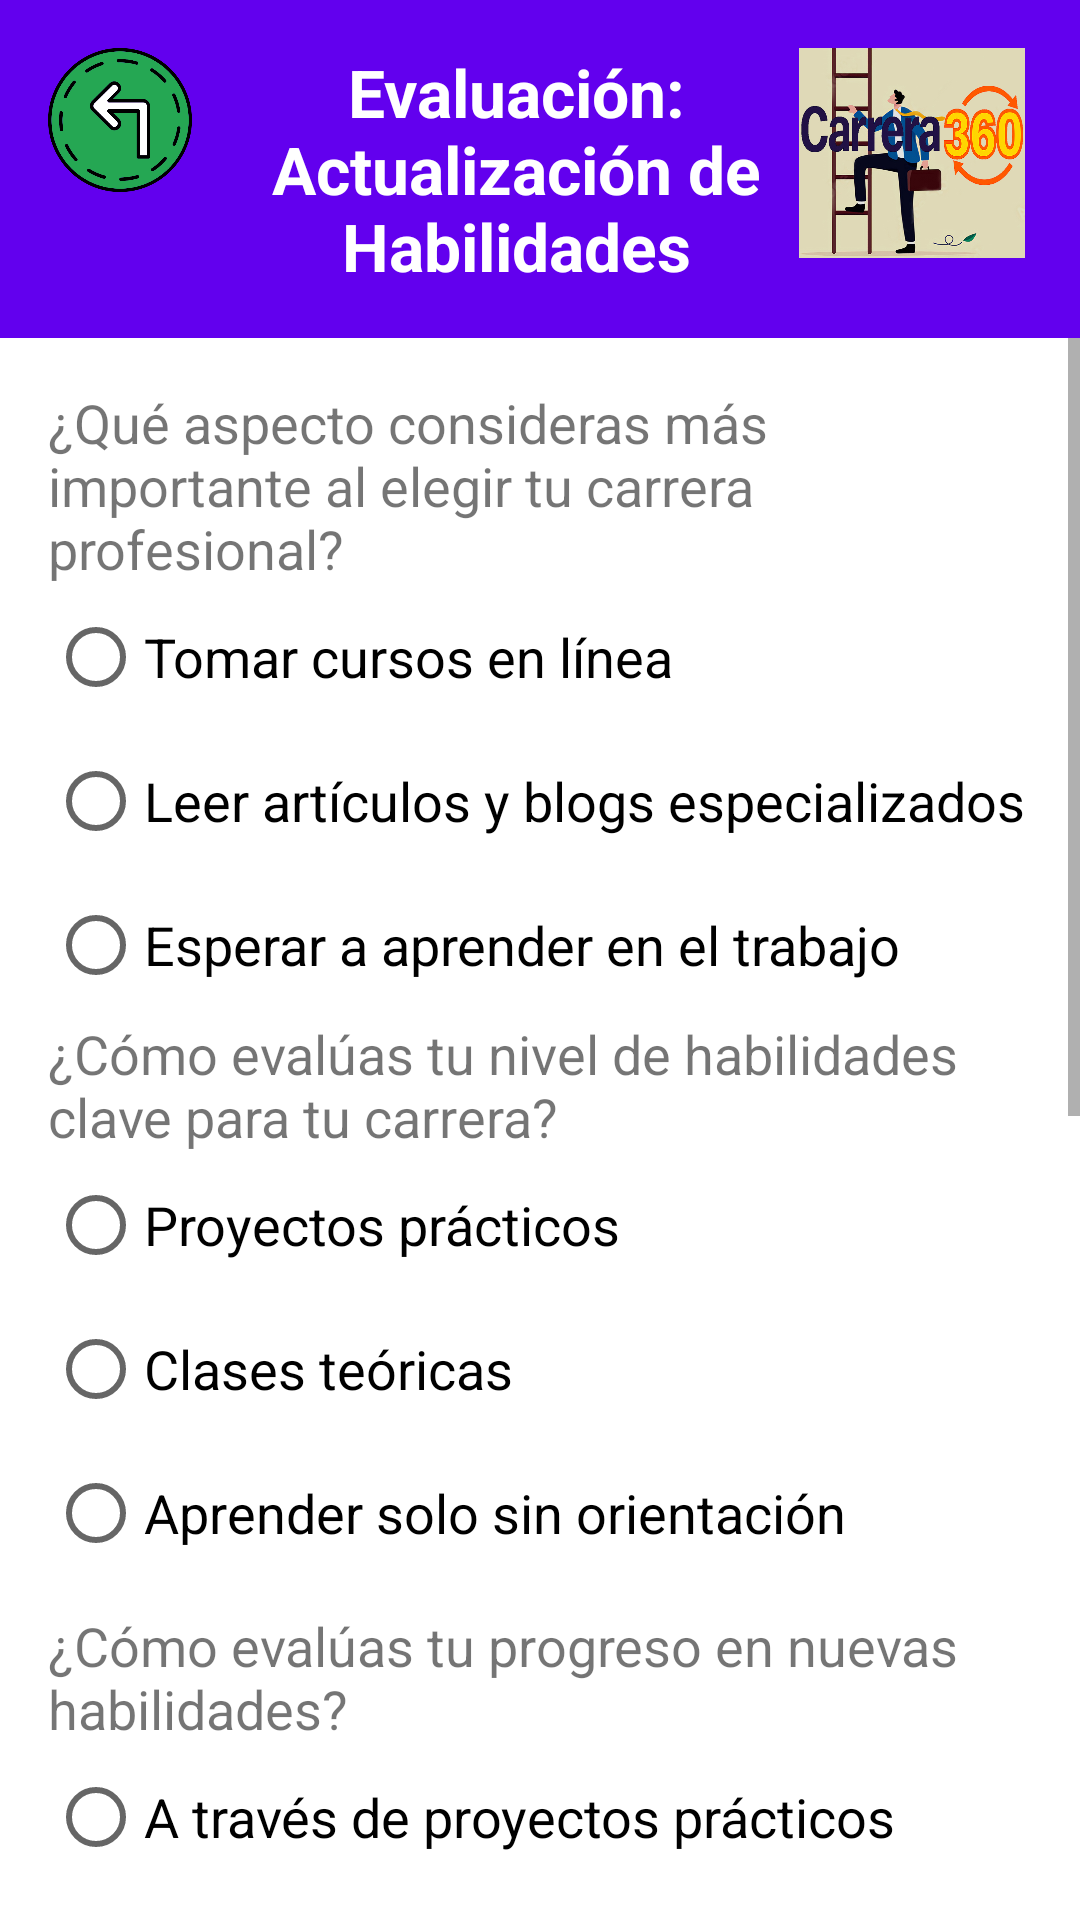

Where to tap for icons on this 1080×1920 app screen, as (x=x, y=y):
Regresar a Inicio: (x=120, y=120)
